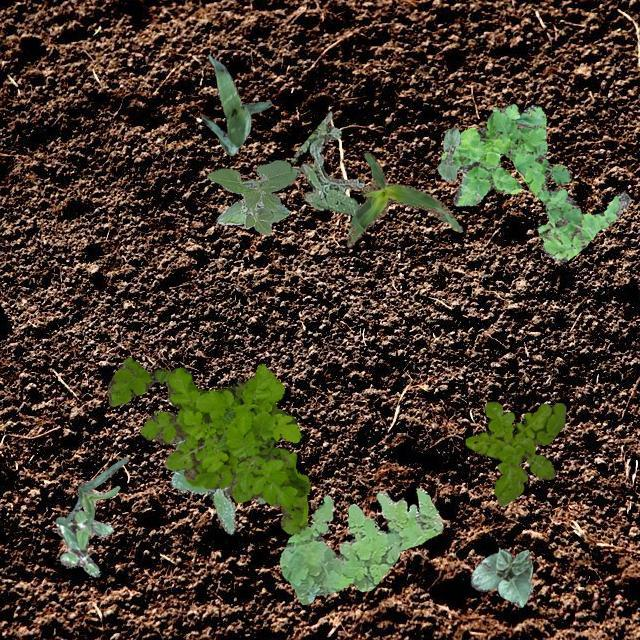crop: (346, 152, 462, 246), (200, 54, 270, 154), (206, 160, 300, 234), (64, 456, 128, 528), (469, 546, 532, 606), (436, 126, 459, 180)
weed: (106, 356, 308, 534), (440, 102, 630, 260), (278, 486, 442, 604), (464, 400, 564, 504), (170, 438, 266, 532), (292, 110, 363, 214), (54, 508, 112, 576)
